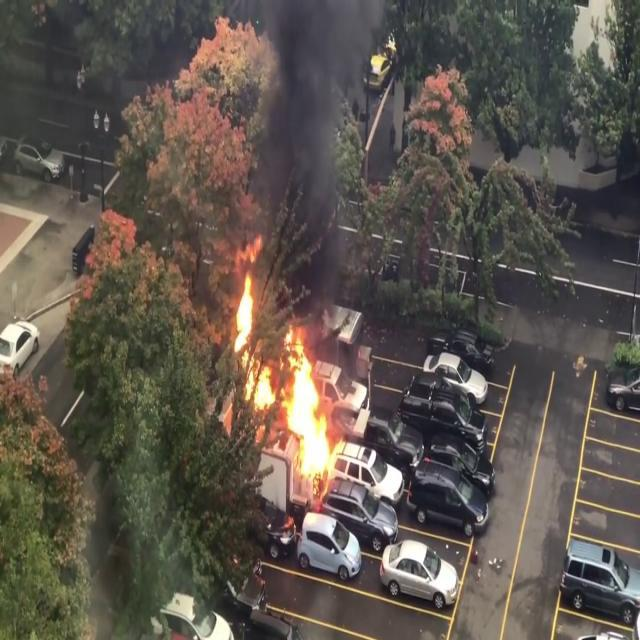Fire: (224, 262, 360, 492)
Smoke: (249, 0, 356, 234)
